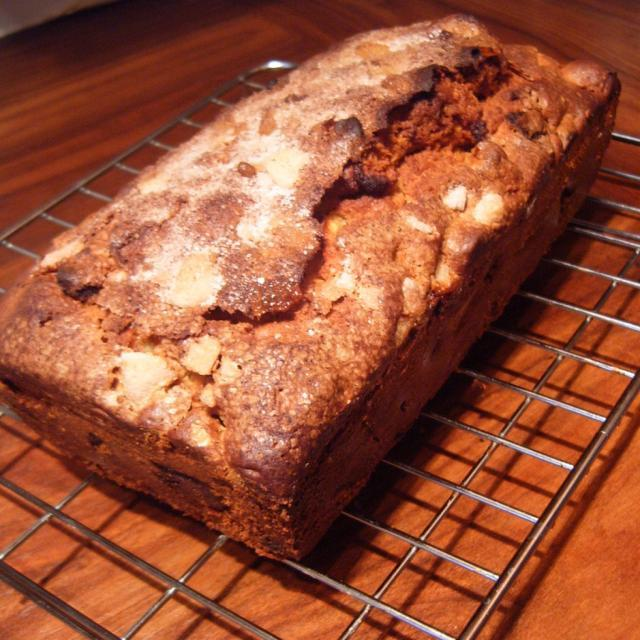Bread: (34, 68, 634, 484)
